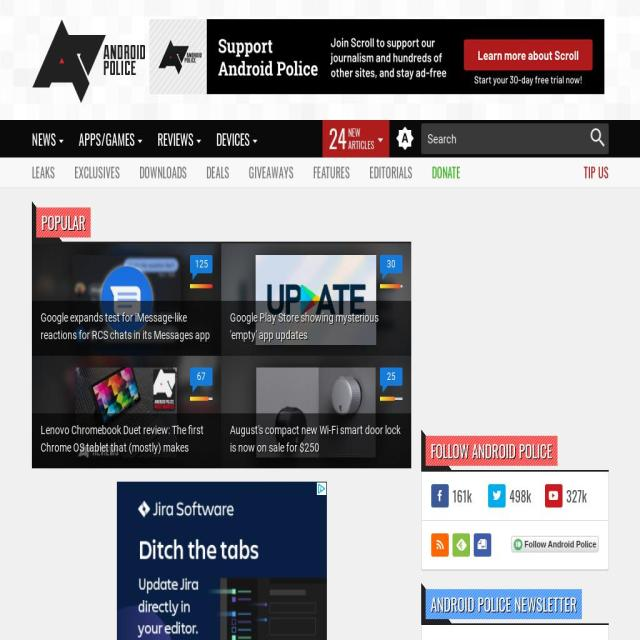button: (31, 243, 221, 356), (221, 243, 411, 356), (31, 356, 221, 468), (221, 356, 411, 468), (31, 10, 145, 110), (71, 120, 150, 158), (322, 120, 389, 158), (149, 120, 209, 158), (208, 120, 265, 158), (134, 158, 192, 188), (69, 158, 125, 188), (243, 158, 299, 188), (363, 158, 418, 188), (511, 534, 598, 552), (31, 120, 71, 158), (307, 158, 355, 188), (487, 484, 542, 509), (544, 484, 599, 509), (431, 484, 485, 509), (426, 158, 466, 188), (200, 158, 234, 188), (577, 158, 609, 188), (31, 158, 60, 188), (190, 367, 212, 386), (380, 367, 402, 386), (190, 255, 212, 273), (380, 255, 402, 273)
field: (421, 124, 608, 154)
heading: (31, 18, 145, 104), (40, 309, 212, 348), (230, 309, 402, 348), (40, 422, 212, 460), (230, 422, 402, 460), (430, 594, 577, 614), (430, 441, 552, 461), (40, 212, 86, 232)
iframe: (31, 481, 411, 640), (421, 202, 608, 410), (511, 536, 598, 552)
image: (149, 19, 604, 94), (31, 243, 221, 370), (221, 243, 411, 370), (31, 356, 221, 482), (221, 356, 411, 482), (256, 255, 376, 345), (256, 368, 376, 458), (72, 255, 180, 345), (76, 368, 178, 458), (395, 126, 414, 151), (488, 484, 506, 508), (544, 484, 562, 508), (452, 533, 470, 557), (473, 533, 491, 557), (431, 484, 448, 508), (431, 533, 448, 557), (190, 285, 212, 287), (380, 285, 400, 287), (190, 398, 209, 400), (380, 398, 396, 400)
text: (78, 128, 135, 150), (157, 128, 194, 150), (216, 128, 250, 150), (32, 128, 56, 150), (328, 126, 346, 151), (348, 138, 374, 152), (509, 488, 531, 504), (452, 488, 472, 504), (566, 488, 586, 504), (348, 125, 360, 139)
